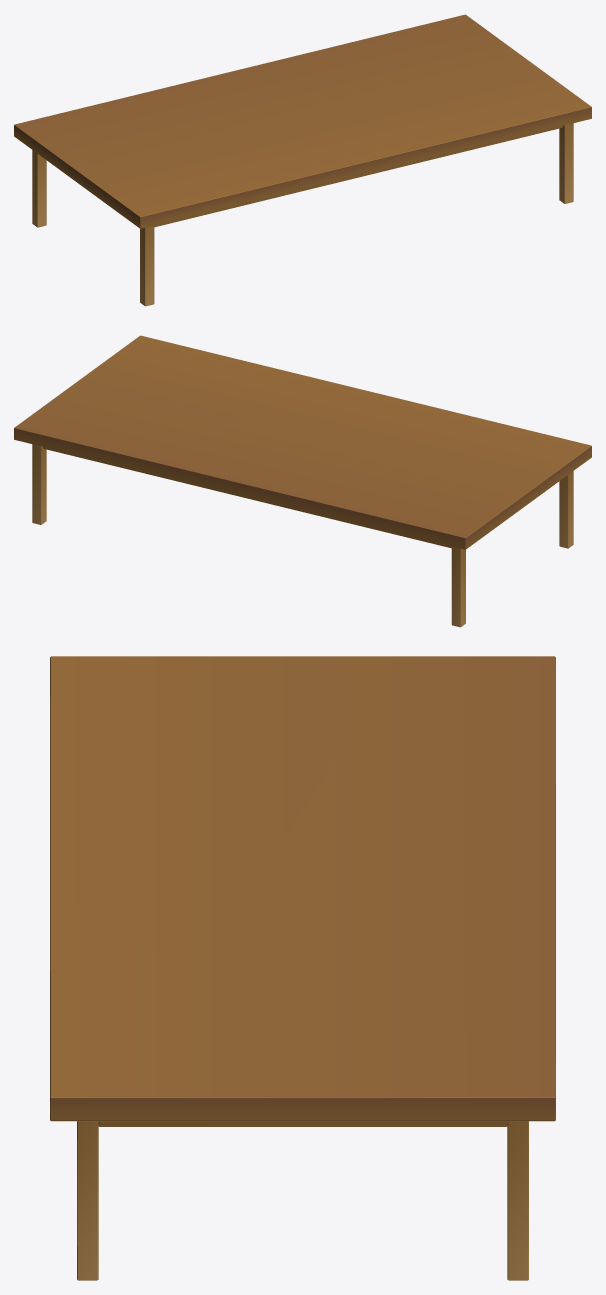
Rendered from table_wood.fbx.
The picture shows the model from 3 angles, top to bottom: view 1: azimuth 30°, elevation 25°; view 2: azimuth 150°, elevation 25°; view 3: azimuth 270°, elevation 25°; orthographic projection. The views are drawn at different scales.
Parts seen in each view (by area): view 1: table_wood; view 2: table_wood; view 3: table_wood.
Boxes of the visible parts, <box> form: table_wood: <box>14,14,591,306</box>; table_wood: <box>14,335,591,627</box>; table_wood: <box>50,656,555,1280</box>.
Bounding box in the file's own units: 62.08 × 12.8 × 30.08.
